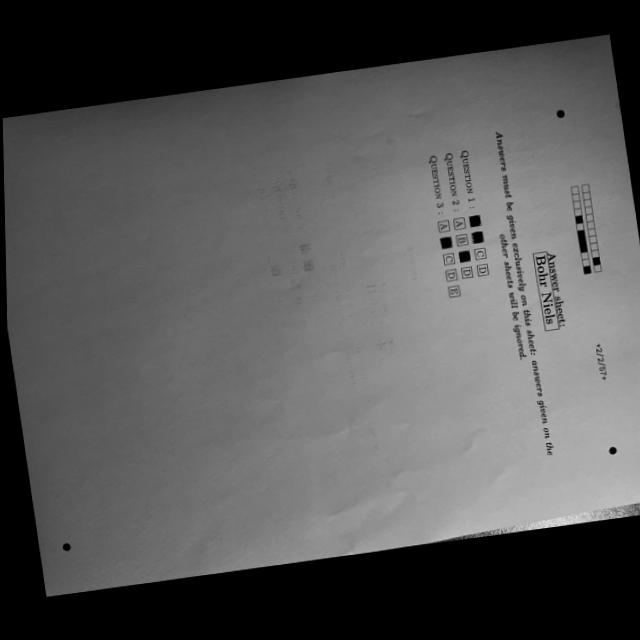Markers: (60, 542, 70, 552), (555, 109, 564, 118), (607, 446, 616, 455)
